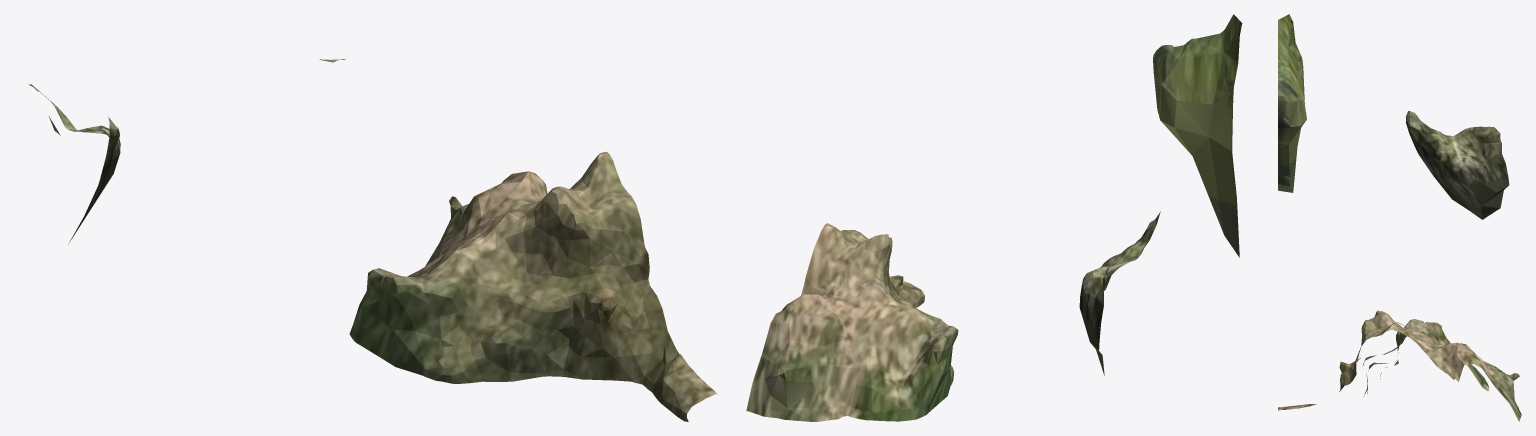
3 views of the same model, side by side, from view 1: azimuth 30°, elevation 25°; view 2: azimuth 150°, elevation 25°; view 3: azimuth 270°, elevation 25° (orthographic). The views are drawn at different scales.
Size of the model in its own units: 5.9 by 5.9 by 4.68.
2 materials, 2 textured.
